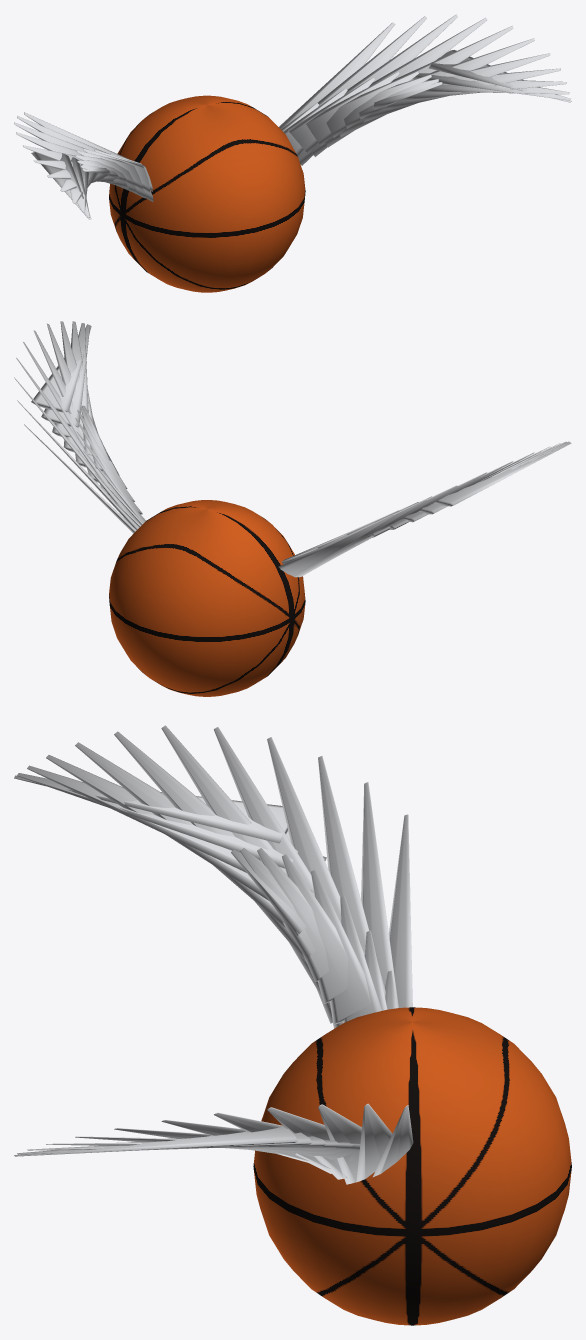
Rendered from wingedball.glb.
3 renders of one model, top to bottom at view 1: azimuth 30°, elevation 25°; view 2: azimuth 150°, elevation 25°; view 3: azimuth 270°, elevation 25°, orthographic. The views are drawn at different scales.
Parts seen in each view (by area): view 1: WingedBall; view 2: WingedBall; view 3: WingedBall.
Part boxes in pixels (left/top/right/bottom): WingedBall: left=14, top=14, right=571, bottom=292; WingedBall: left=14, top=321, right=571, bottom=696; WingedBall: left=14, top=725, right=571, bottom=1325.
Size of the model in its own units: 3.54 by 1.63 by 2.1.
2 materials, 1 textured.
